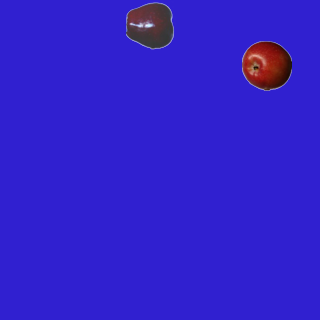Apple Braeburn: (241, 40, 291, 90)
Apple Red Delicious: (125, 0, 175, 50)
